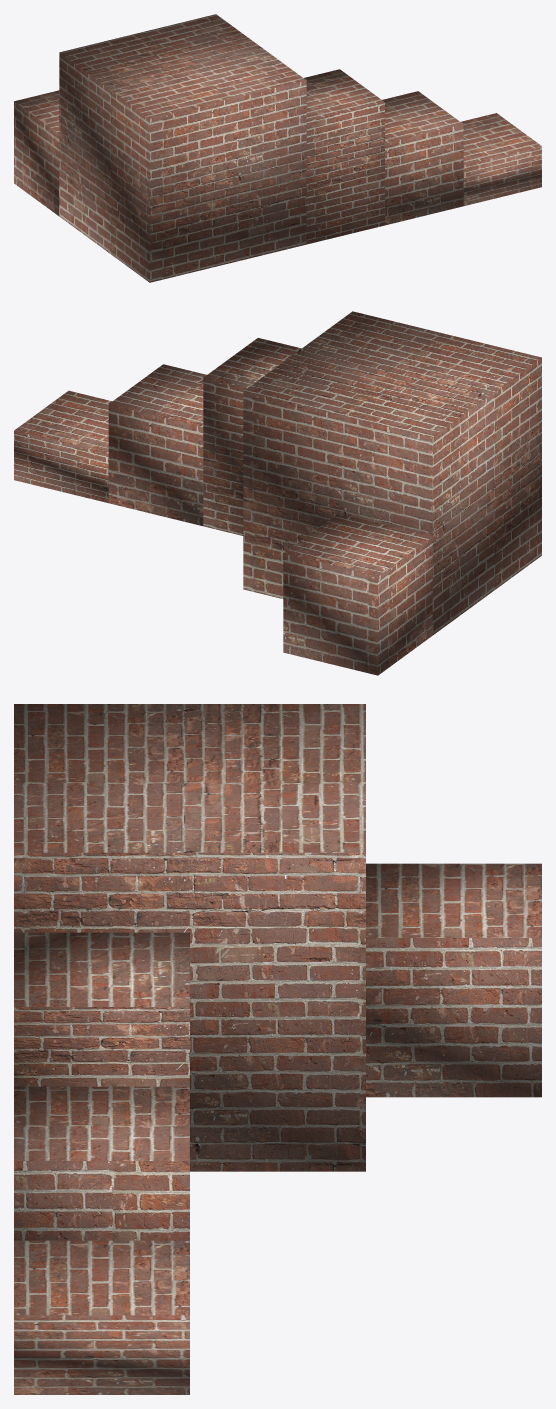
The model's file is block.DAE.
3 renders of one model, top to bottom at view 1: azimuth 30°, elevation 25°; view 2: azimuth 150°, elevation 25°; view 3: azimuth 270°, elevation 25°, orthographic. The views are drawn at different scales.
Visible parts, largest first — view 1: adventureplaygound01a; view 2: adventureplaygound01a; view 3: adventureplaygound01a.
Boxes of the visible parts, x1=… form: adventureplaygound01a: x1=14, y1=14, x2=541, y2=282; adventureplaygound01a: x1=14, y1=311, x2=541, y2=675; adventureplaygound01a: x1=14, y1=704, x2=541, y2=1394.
Size of the model in its own units: 500 by 200 by 300.
